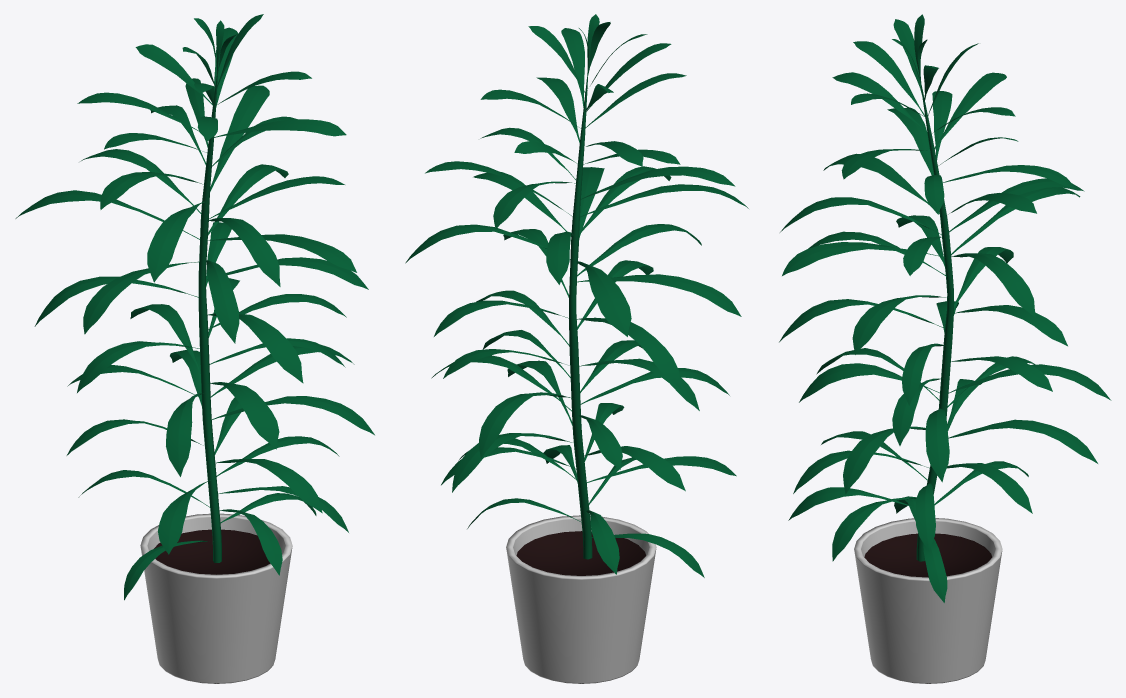
The model's file is plant3.fbx.
The picture shows the model from 3 angles, left to right: view 1: azimuth 30°, elevation 25°; view 2: azimuth 150°, elevation 25°; view 3: azimuth 270°, elevation 25°; orthographic projection. The views are drawn at different scales.
Visible parts, largest first — view 1: 03; view 2: 03; view 3: 03.
Part boxes in pixels (x1=…): 03: x1=15, y1=14, x2=374, y2=683; 03: x1=405, y1=14, x2=748, y2=683; 03: x1=779, y1=14, x2=1111, y2=683.
Size of the model in its own units: 447 by 945 by 451.
